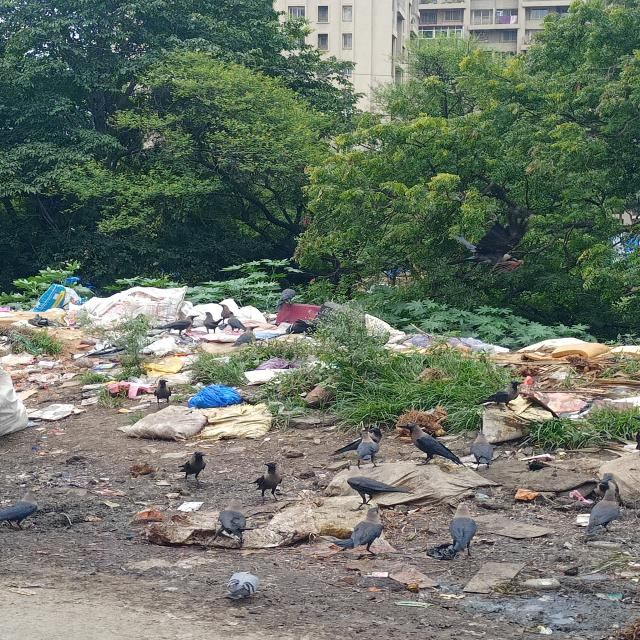garbage: (285, 325, 640, 439), (252, 458, 634, 553), (4, 288, 263, 419)
